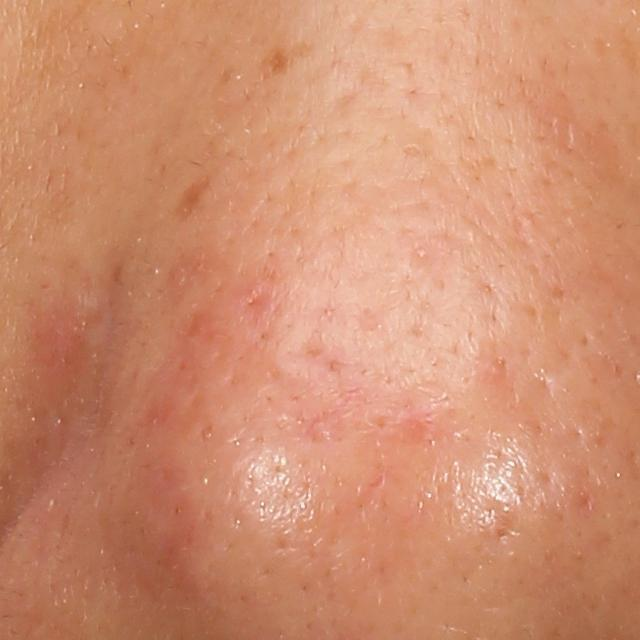melasma: (166, 168, 220, 233), (259, 43, 312, 82)
